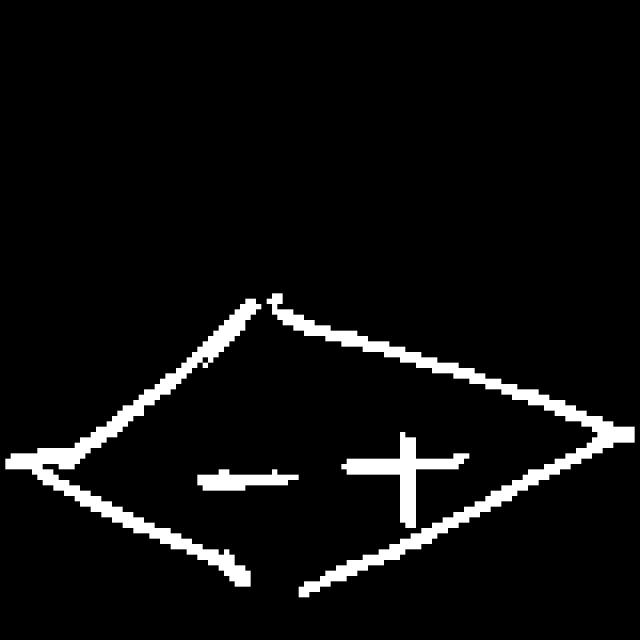dependant_voltage: (29, 302, 608, 594)
